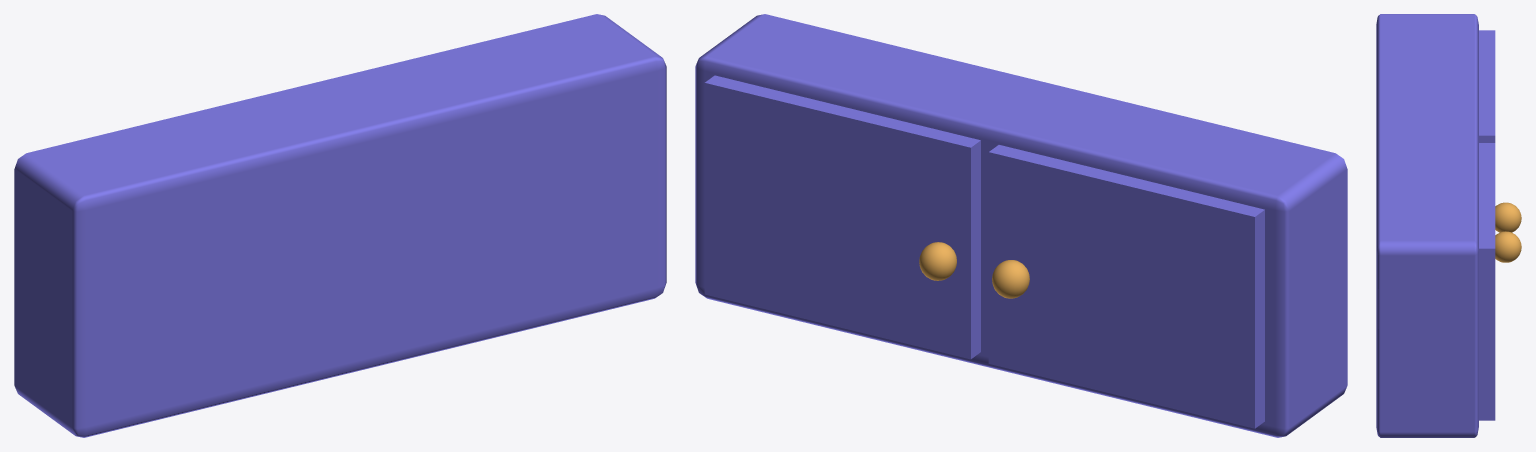
Rendered from closet01.fbx.
3 renders of one model, left to right at view 1: azimuth 30°, elevation 25°; view 2: azimuth 150°, elevation 25°; view 3: azimuth 270°, elevation 25°, orthographic. The views are drawn at different scales.
Visible parts, largest first — view 1: Plane.001; view 2: Plane.005, Plane.001, Sphere.001; view 3: Plane.001, Plane.005, Sphere.001.
Part boxes in pixels (<box>): Plane.001: <box>14,14,666,437</box>; Plane.005: <box>704,75,1264,428</box>; Plane.001: <box>695,14,1347,437</box>; Sphere.001: <box>919,242,1029,298</box>; Plane.001: <box>1376,14,1478,437</box>; Plane.005: <box>1479,30,1495,420</box>; Sphere.001: <box>1495,202,1521,262</box>.
Bounding box in the file's own units: 498 × 194 × 130.
